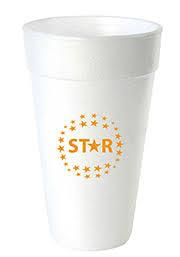Plastic cup: (17, 6, 166, 257)
